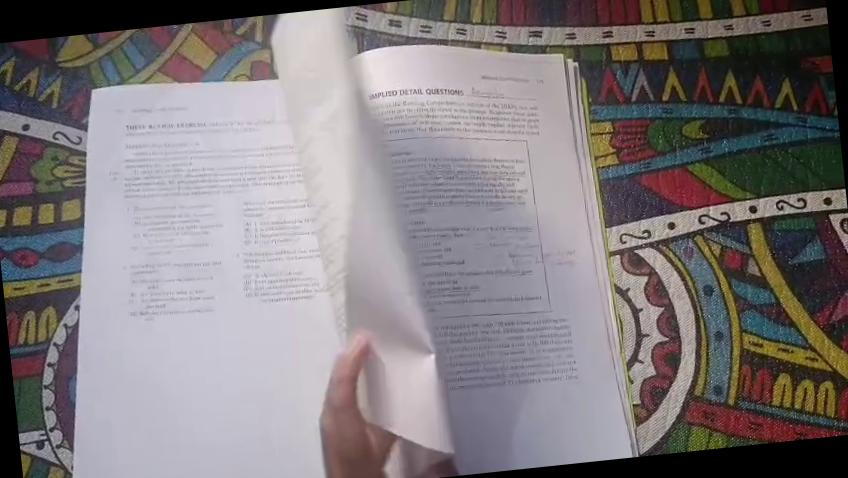Kertas: (336, 24, 634, 478), (96, 80, 319, 478)
